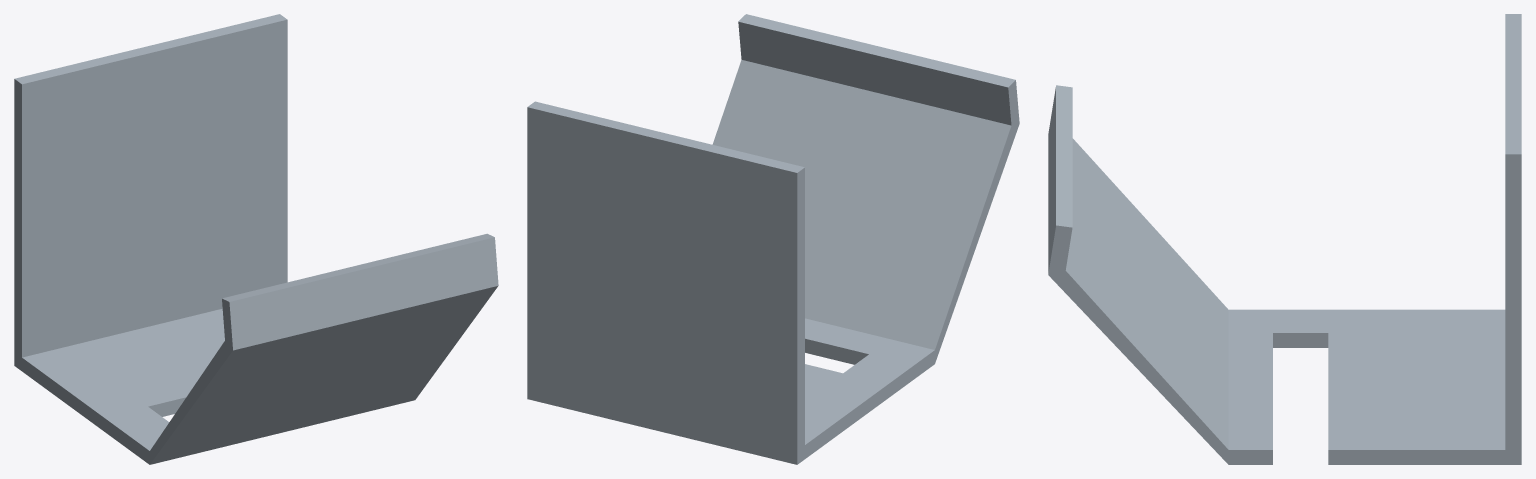
File: Stojan na hodinky v2.gltf.gltf
3 views of the same model, side by side, from view 1: azimuth 30°, elevation 25°; view 2: azimuth 150°, elevation 25°; view 3: azimuth 270°, elevation 25° (orthographic). The views are drawn at different scales.
Bounding box in the file's own units: 0.06 × 0.062 × 0.0856.
